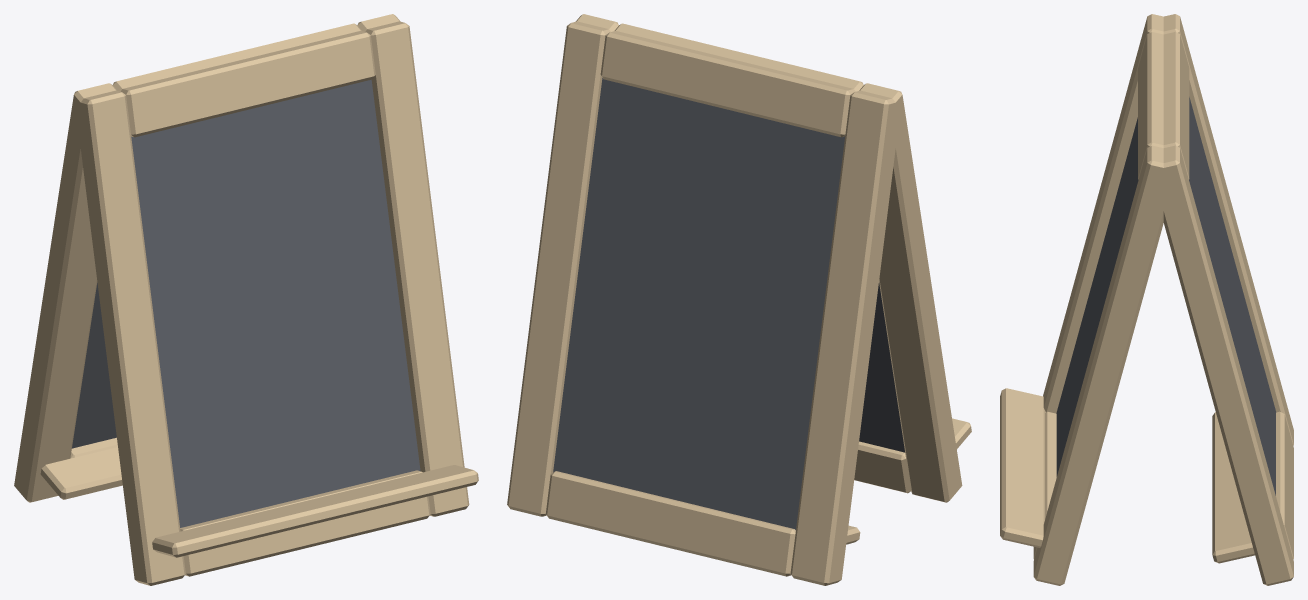
Rendered from fresh-produce-and-groceries-chalkboard-price-sign-e74e6628__24459.glb.
3 renders of one model, left to right at view 1: azimuth 30°, elevation 25°; view 2: azimuth 150°, elevation 25°; view 3: azimuth 270°, elevation 25°, orthographic. The views are drawn at different scales.
Parts seen in each view (by area): view 1: chalkboard-price-sign; view 2: chalkboard-price-sign; view 3: chalkboard-price-sign.
Boxes of the visible parts, <box> form: chalkboard-price-sign: <box>14,14,478,585</box>; chalkboard-price-sign: <box>507,14,971,585</box>; chalkboard-price-sign: <box>1000,14,1293,585</box>.
Size of the model in its own units: 0.2 by 0.2654 by 0.1661.
